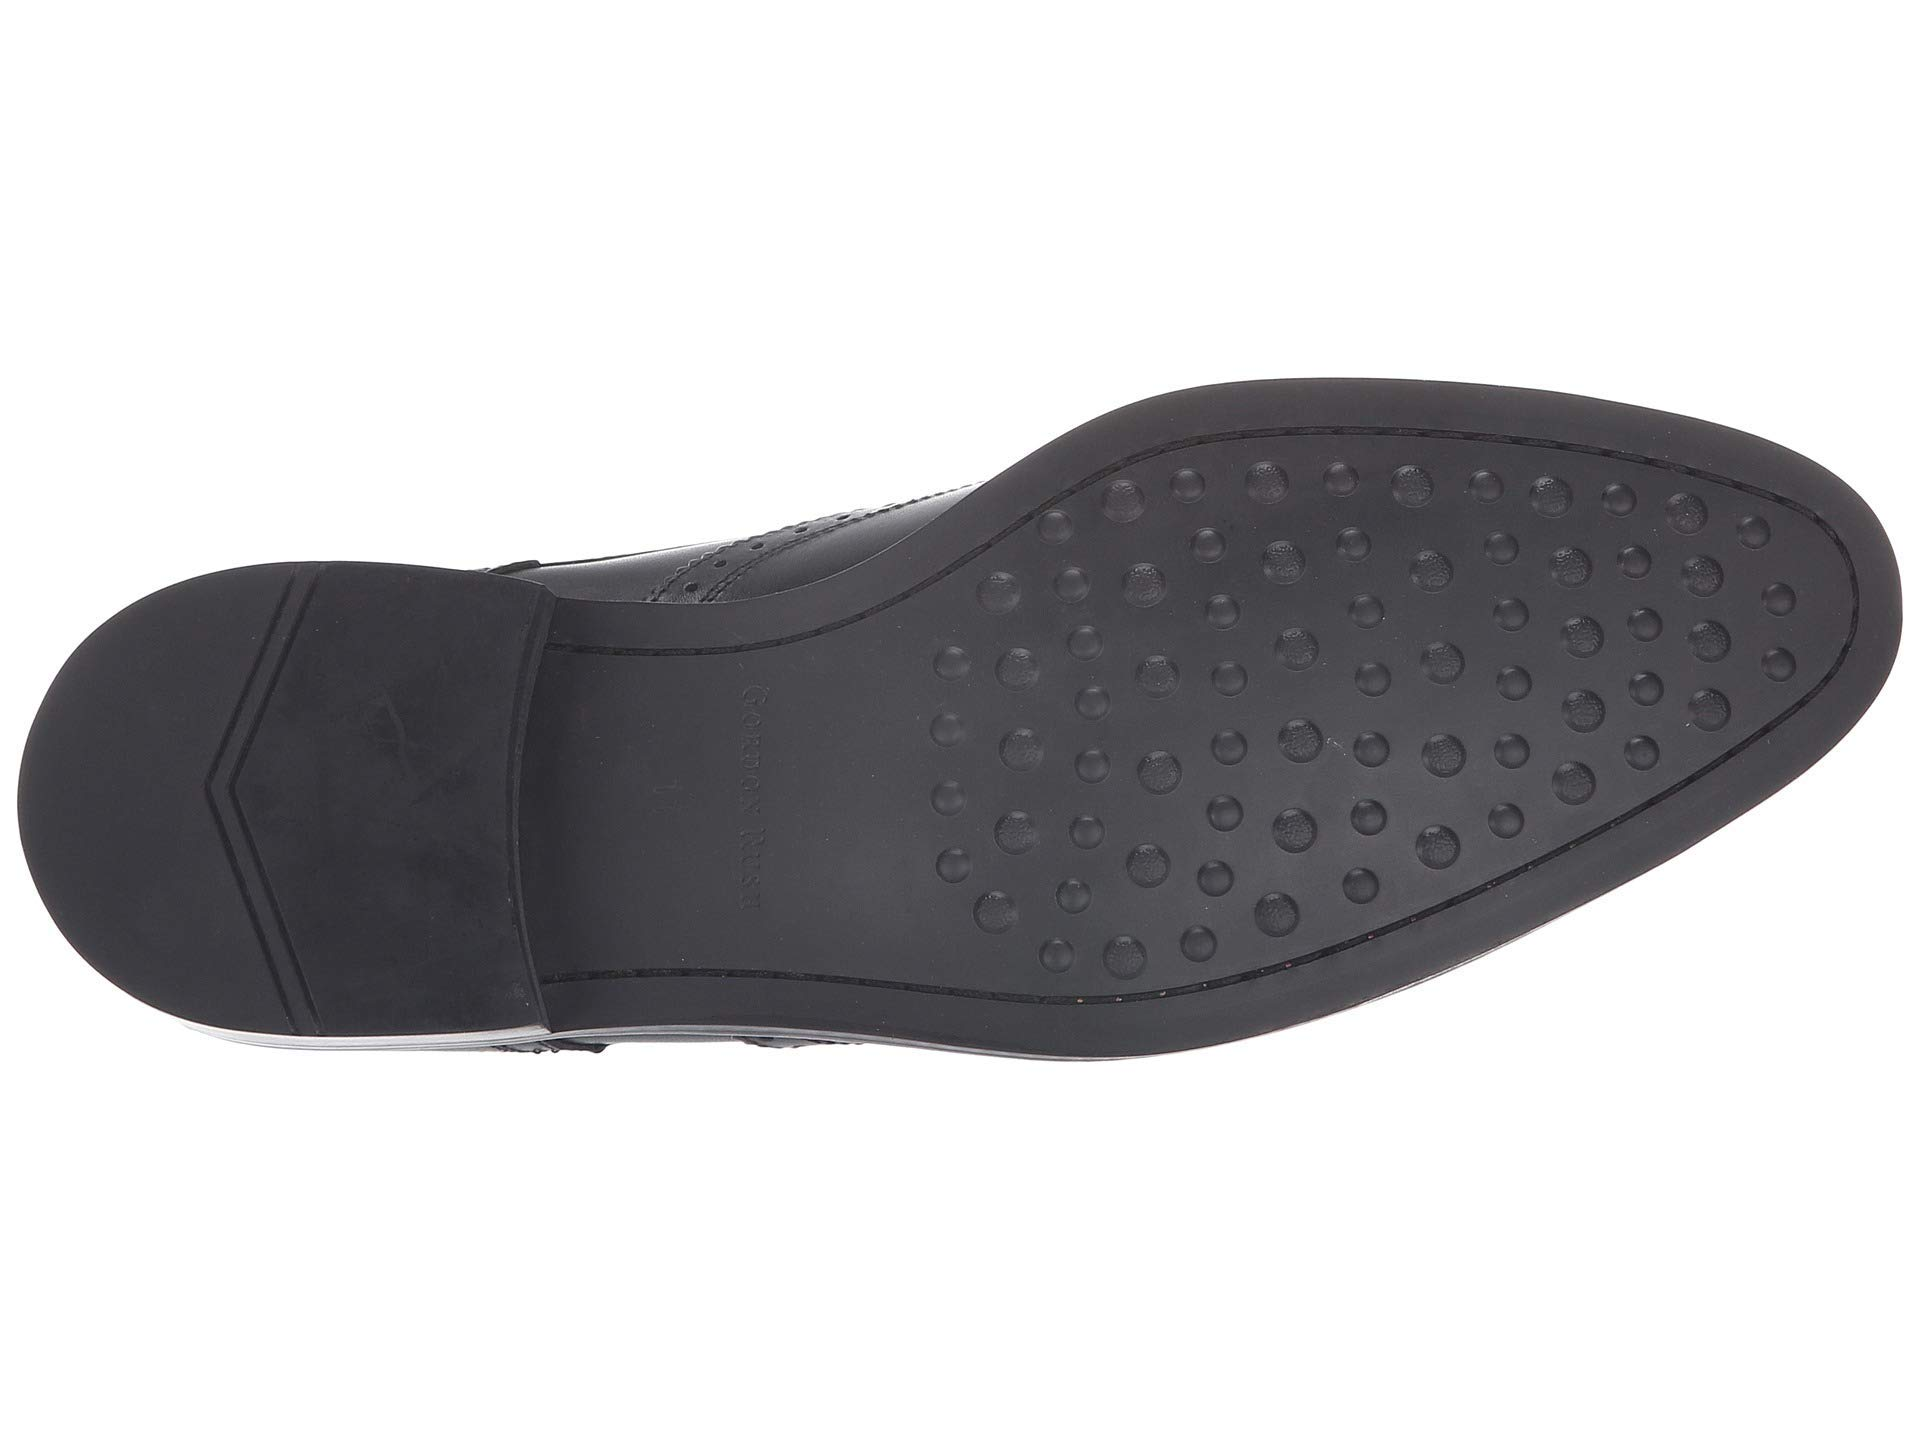chevron: (172, 569, 395, 1036)
circle: (927, 436, 1853, 995)
line: (172, 569, 395, 1036)
